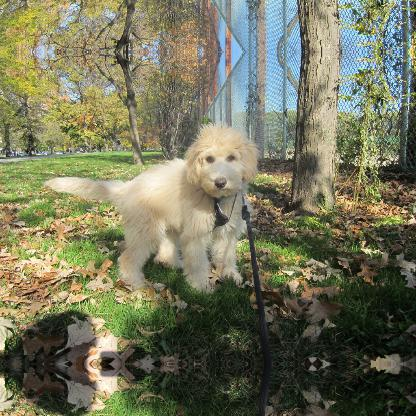Dog: (40, 121, 262, 295)
